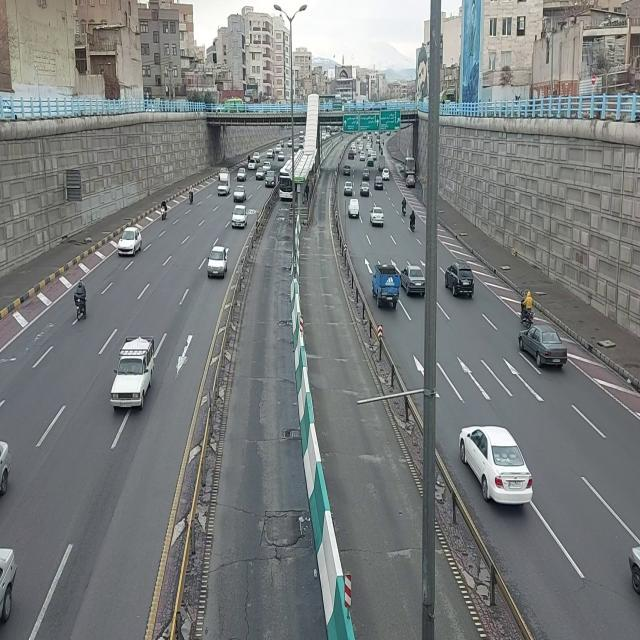Bus: (279, 161, 294, 201)
Car: (459, 424, 534, 507), (519, 322, 568, 370), (445, 261, 476, 299), (116, 224, 144, 258), (401, 264, 427, 298), (207, 244, 229, 280), (230, 204, 248, 228), (370, 206, 384, 230), (233, 185, 247, 203), (265, 171, 277, 189), (359, 182, 370, 198), (237, 168, 248, 183), (343, 182, 353, 197), (374, 177, 384, 192), (256, 166, 266, 180), (406, 176, 416, 190), (248, 158, 258, 170), (362, 168, 370, 182), (343, 165, 351, 178), (382, 169, 390, 181), (366, 156, 374, 168), (278, 151, 286, 162), (348, 150, 356, 161), (267, 148, 274, 160), (276, 142, 282, 154), (360, 152, 366, 162)
Motorcycle: (73, 277, 88, 323), (160, 198, 170, 224), (409, 209, 417, 233), (188, 182, 195, 206), (401, 195, 407, 219), (272, 149, 276, 161)
Pickup: (110, 328, 156, 421), (372, 262, 400, 311), (216, 170, 230, 198), (348, 196, 361, 220), (378, 153, 386, 175)
